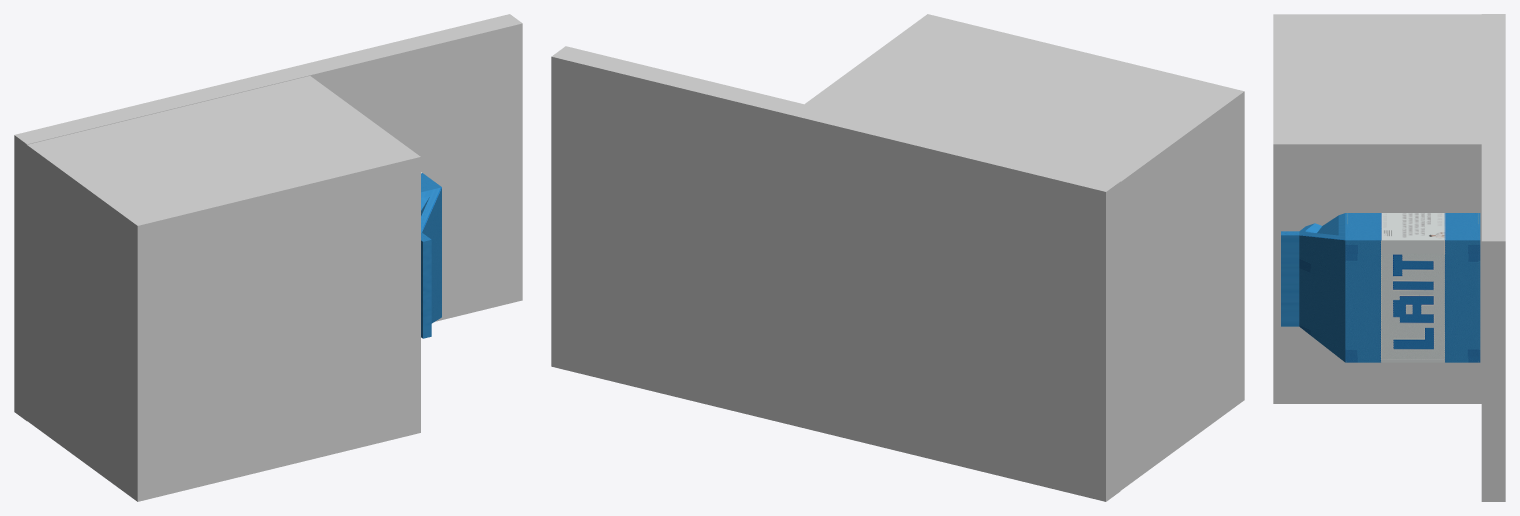
The model's file is milkmanhat.fbx.
3 renders of one model, left to right at view 1: azimuth 30°, elevation 25°; view 2: azimuth 150°, elevation 25°; view 3: azimuth 270°, elevation 25°, orthographic. The views are drawn at different scales.
Parts seen in each view (by area): view 1: Plane, Milk; view 2: Plane; view 3: Plane, Milk.
Part boxes in pixels (bbox=[...]): Plane: bbox=[14, 14, 522, 501]; Milk: bbox=[421, 172, 441, 338]; Plane: bbox=[551, 14, 1244, 501]; Plane: bbox=[1273, 14, 1505, 501]; Milk: bbox=[1281, 213, 1480, 362].
Bounding box in the file's own units: 1.6 × 0.8544 × 0.6912.
